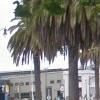Tree: (12, 0, 100, 70)
